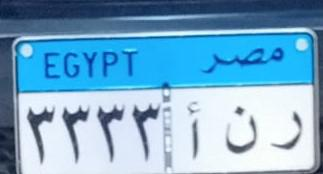3: (129, 97, 162, 165), (24, 106, 58, 164), (64, 104, 92, 164), (98, 95, 125, 157)
أ: (184, 98, 206, 160)
ر: (264, 106, 308, 155)
ن: (220, 103, 260, 156)
